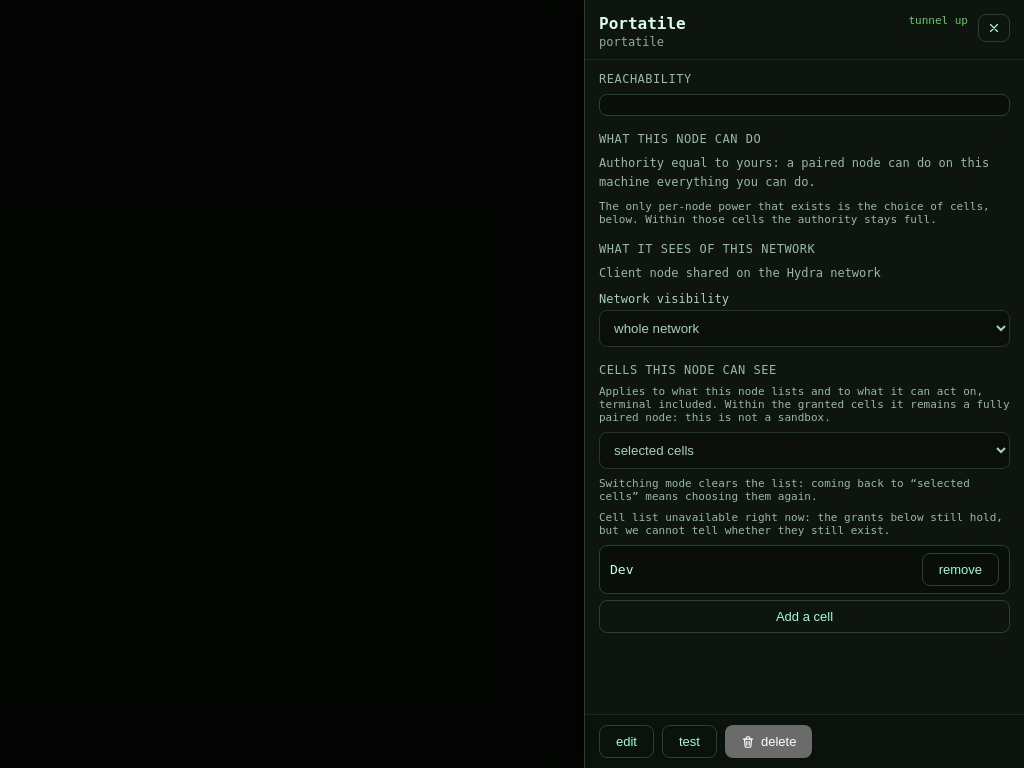
Test case: scope celle › dopo un fallimento, "aggiungi una cella" RIPROVA invece di aprire un picker muto
Expected: the text "Cell list unavailable" is shown, [599,511,1003,537]
Click the button "Add a cell" at (804, 616), box [599,600,1010,633]
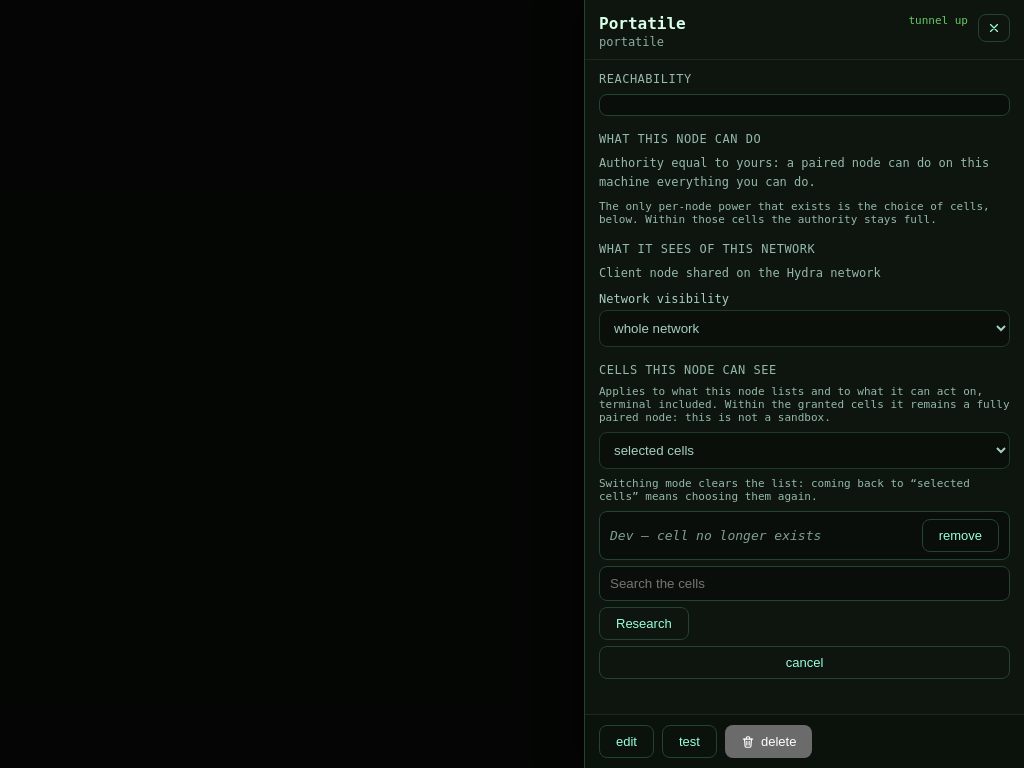
Expected: the text "Cell list unavailable" is gone
Expected: the button "Research" is shown, [599,607,689,640]
